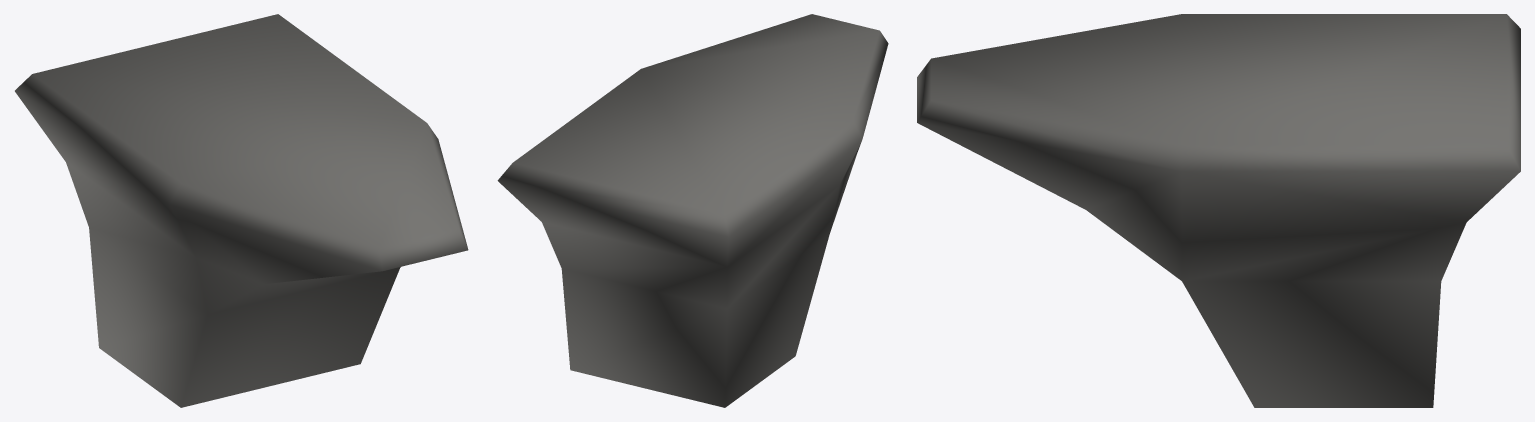
The model's file is rpgpp_ag_anvil_01.fbx.
The picture shows the model from 3 angles, left to right: view 1: azimuth 30°, elevation 25°; view 2: azimuth 150°, elevation 25°; view 3: azimuth 270°, elevation 25°; orthographic projection. The views are drawn at different scales.
Parts seen in each view (by area): view 1: rpgpp_ag_anvil_01; view 2: rpgpp_ag_anvil_01; view 3: rpgpp_ag_anvil_01.
Part boxes in pixels (left/top/right/bottom): rpgpp_ag_anvil_01: left=15, top=14, right=468, bottom=407; rpgpp_ag_anvil_01: left=497, top=14, right=888, bottom=407; rpgpp_ag_anvil_01: left=917, top=14, right=1520, bottom=407.
Size of the model in its own units: 0.2929 by 0.2682 by 0.523.
